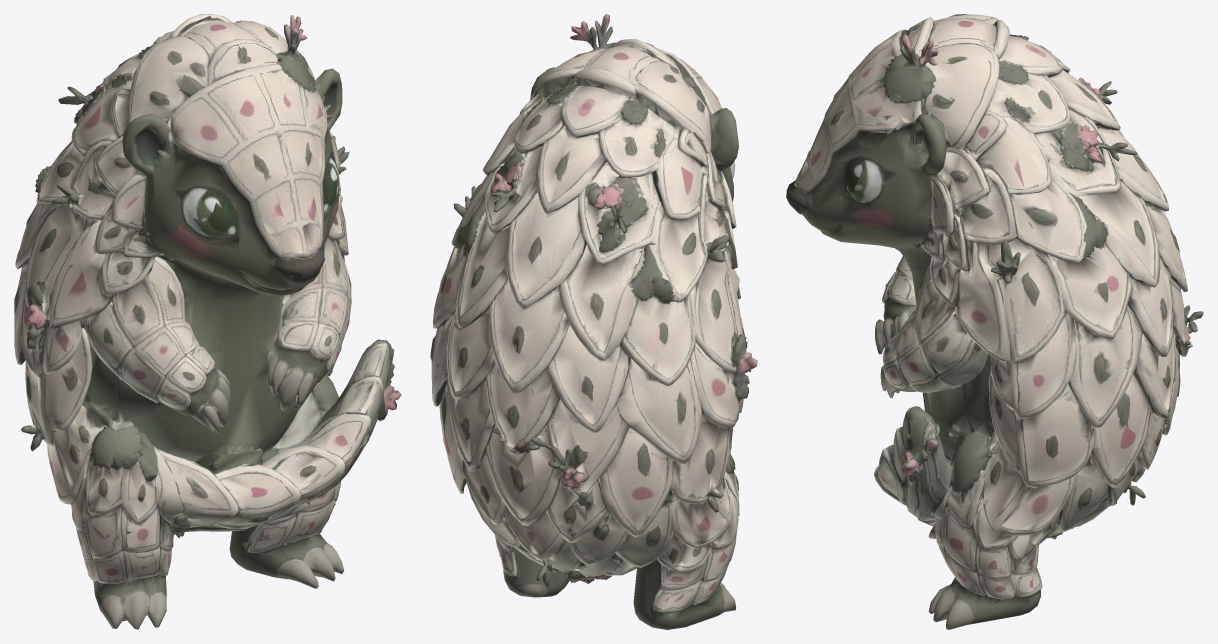
3 renders of one model, left to right at view 1: azimuth 30°, elevation 25°; view 2: azimuth 150°, elevation 25°; view 3: azimuth 270°, elevation 25°, orthographic. The views are drawn at different scales.
Visible parts, largest first — view 1: Mesh_0; view 2: Mesh_0; view 3: Mesh_0.
Part boxes in pixels (box(x1,y1,x2,y2)): Mesh_0: box(14, 14, 401, 629); Mesh_0: box(430, 14, 757, 629); Mesh_0: box(786, 14, 1203, 629).
Size of the model in its own units: 1.1 by 1.9 by 1.28.
Materials: 1 (1 with a texture image).
